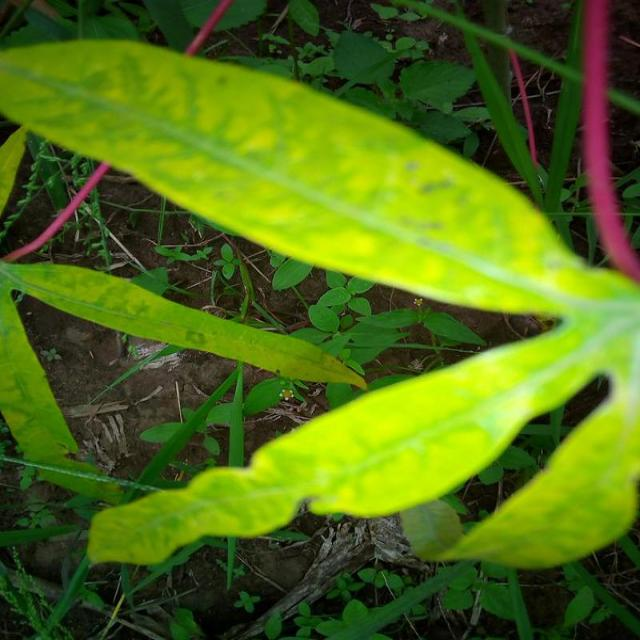cassava leaf: (1, 34, 638, 572)
